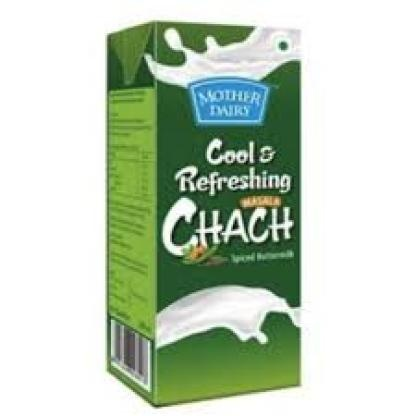trash: (107, 22, 300, 404)
